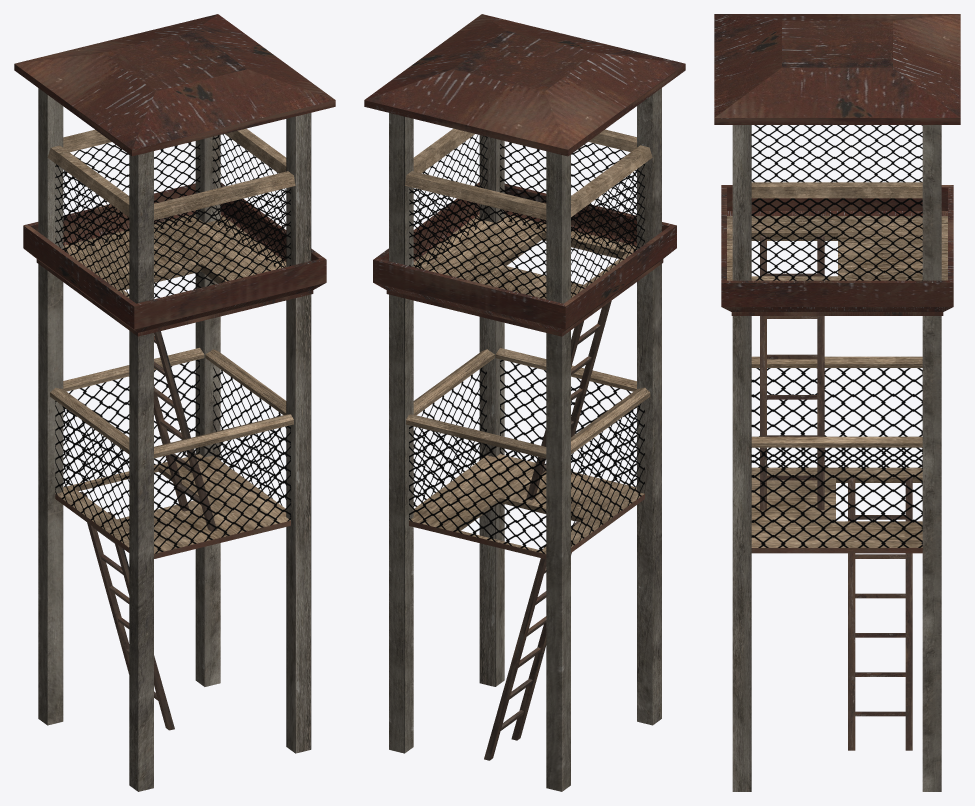
File: old_wooden_watchtower.glb
3 renders of one model, left to right at view 1: azimuth 30°, elevation 25°; view 2: azimuth 150°, elevation 25°; view 3: azimuth 270°, elevation 25°, orthographic. The views are drawn at different scales.
Visible parts, largest first — view 1: Cube.067_0, Cube.151_6, Cube.155_10, Cube.150_5, Cube.152_7, Cube.149_4, Cube.146_1, Cube.153_8, Cube.154_9, Cube.148_3, Cube.158_13, Cube.147_2 (+2 smaller); view 2: Cube.067_0, Cube.151_6, Cube.155_10, Cube.150_5, Cube.152_7, Cube.146_1, Cube.149_4, Cube.153_8, Cube.154_9, Cube.147_2, Cube.158_13, Cube.156_11 (+2 smaller); view 3: Cube.151_6, Cube.067_0, Cube.155_10, Cube.150_5, Cube.152_7, Cube.146_1, Cube.149_4, Cube.147_2, Cube.148_3, Cube.154_9, Cube.153_8, Cube.158_13 (+2 smaller).
Boxes of the visible parts, left/top/right/bottom form: Cube.067_0: left=38, top=88, right=311, bottom=791; Cube.151_6: left=14, top=14, right=334, bottom=149; Cube.155_10: left=55, top=359, right=290, bottom=553; Cube.150_5: left=23, top=182, right=326, bottom=329; Cube.152_7: left=55, top=134, right=290, bottom=298; Cube.149_4: left=63, top=214, right=286, bottom=297; Cube.146_1: left=57, top=454, right=290, bottom=553; Cube.153_8: left=47, top=128, right=295, bottom=220; Cube.154_9: left=50, top=348, right=293, bottom=458; Cube.148_3: left=154, top=331, right=216, bottom=531; Cube.158_13: left=27, top=210, right=325, bottom=336; Cube.147_2: left=80, top=492, right=174, bottom=730; Cube.067_0: left=389, top=88, right=661, bottom=791; Cube.151_6: left=364, top=14, right=685, bottom=149; Cube.155_10: left=409, top=360, right=644, bottom=553; Cube.150_5: left=373, top=182, right=676, bottom=329; Cube.152_7: left=409, top=135, right=644, bottom=298; Cube.146_1: left=409, top=454, right=644, bottom=553; Cube.149_4: left=413, top=214, right=636, bottom=299; Cube.153_8: left=404, top=128, right=652, bottom=219; Cube.154_9: left=406, top=348, right=650, bottom=458; Cube.147_2: left=484, top=522, right=578, bottom=760; Cube.158_13: left=374, top=210, right=672, bottom=336; Cube.156_11: left=364, top=64, right=685, bottom=156; Cube.151_6: left=714, top=14, right=960, bottom=117; Cube.067_0: left=732, top=125, right=941, bottom=791; Cube.155_10: left=751, top=368, right=922, bottom=547; Cube.150_5: left=721, top=185, right=953, bottom=306; Cube.152_7: left=751, top=125, right=922, bottom=280; Cube.146_1: left=751, top=467, right=922, bottom=547; Cube.149_4: left=727, top=216, right=947, bottom=280; Cube.147_2: left=848, top=477, right=912, bottom=750; Cube.148_3: left=760, top=235, right=824, bottom=510; Cube.154_9: left=751, top=356, right=922, bottom=447; Cube.153_8: left=751, top=182, right=922, bottom=198; Cube.158_13: left=722, top=211, right=952, bottom=315.
Size of the model in its own units: 2.19 by 6.91 by 2.19.
5 materials, 5 textured.
